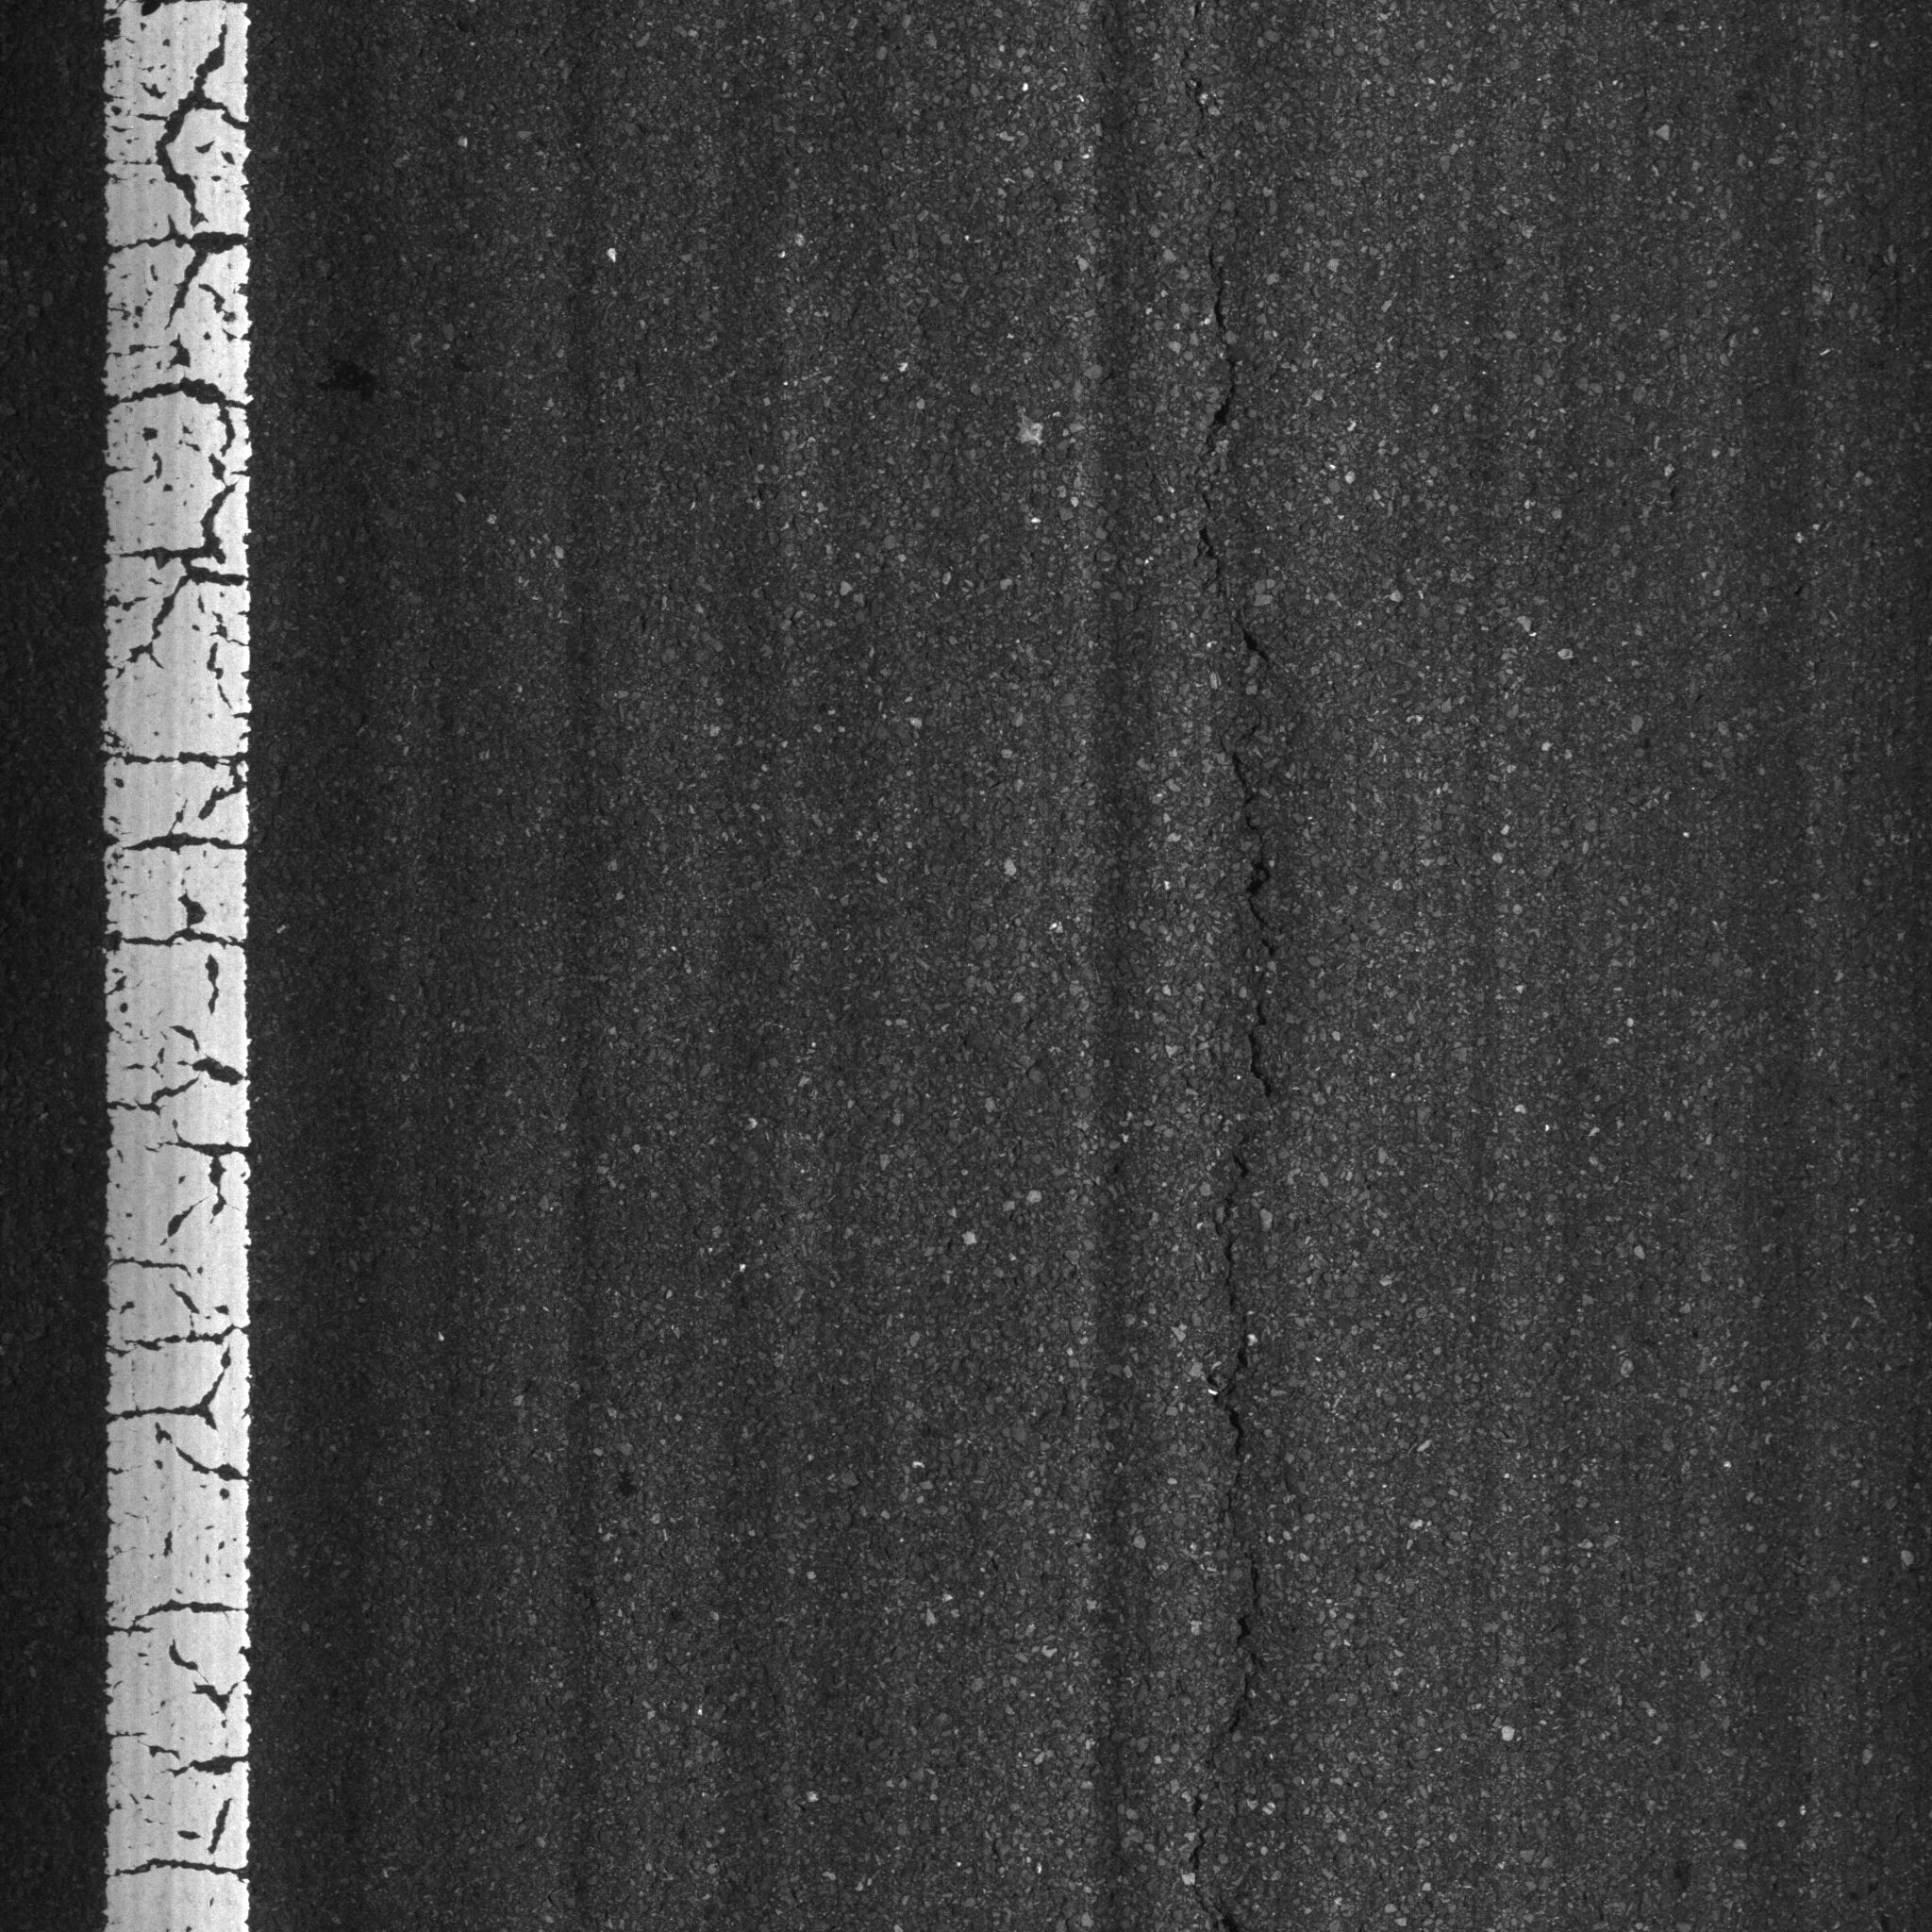longitudinal: (1155, 9, 1345, 1932)
